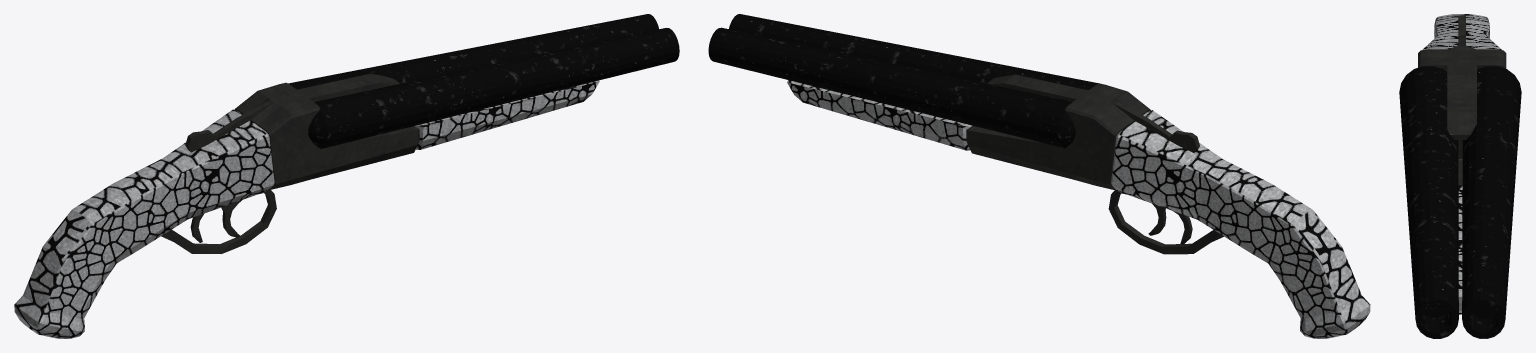
File: Shotgun V1.fbx
The picture shows the model from 3 angles, left to right: view 1: azimuth 30°, elevation 25°; view 2: azimuth 150°, elevation 25°; view 3: azimuth 270°, elevation 25°; orthographic projection. The views are drawn at different scales.
Visible parts, largest first — view 1: Shotgun Bake; view 2: Shotgun Bake; view 3: Shotgun Bake.
Boxes of the visible parts, bbox=[...] form: Shotgun Bake: bbox=[14, 14, 679, 338]; Shotgun Bake: bbox=[708, 14, 1370, 338]; Shotgun Bake: bbox=[1399, 14, 1521, 338].
Size of the model in its own units: 6051 by 1656 by 814.
1 material, 1 textured.
